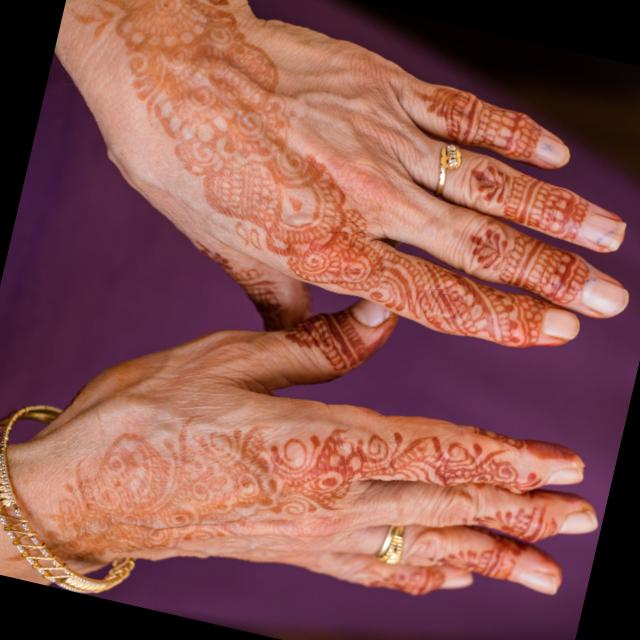Nail: (582, 276, 630, 315), (582, 212, 627, 249), (534, 132, 571, 166), (543, 306, 580, 339), (351, 298, 391, 326), (517, 570, 557, 594), (559, 510, 599, 533), (547, 467, 584, 484), (442, 572, 474, 589)
